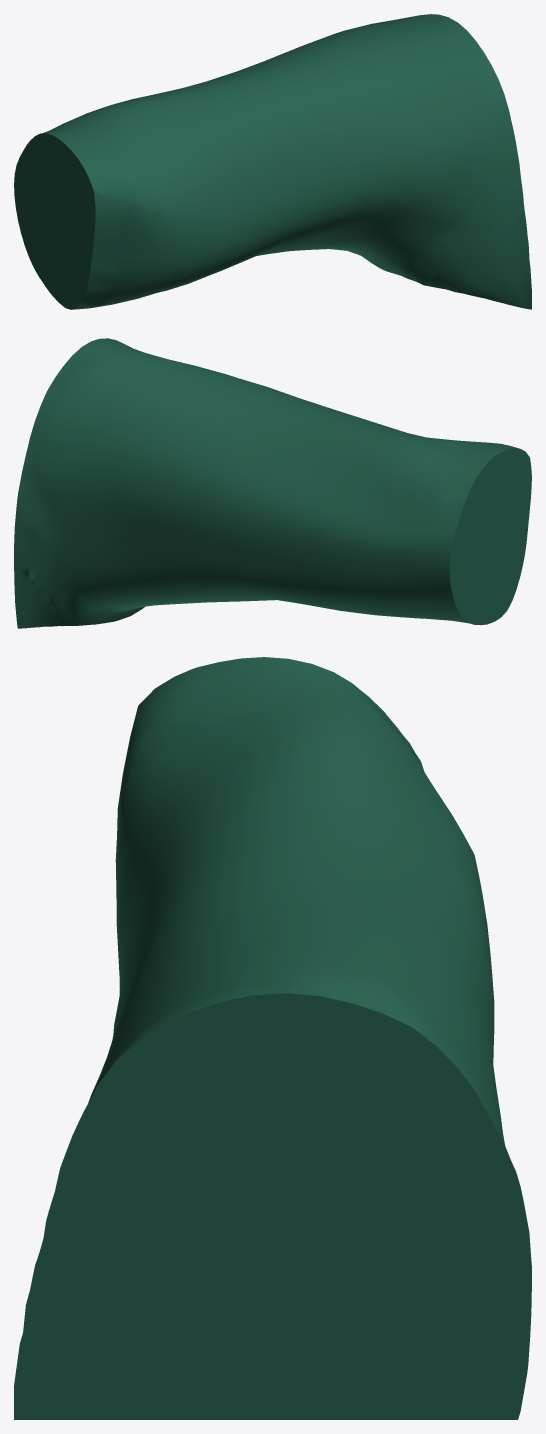
Rendered from upperarm_r.fbx.
3 renders of one model, top to bottom at view 1: azimuth 30°, elevation 25°; view 2: azimuth 150°, elevation 25°; view 3: azimuth 270°, elevation 25°, orthographic. The views are drawn at different scales.
Visible parts, largest first — view 1: upperarm_r.-1; view 2: upperarm_r.-1; view 3: upperarm_r.-1.
Boxes of the visible parts, <box> form: upperarm_r.-1: <box>14,14,531,309</box>; upperarm_r.-1: <box>14,338,531,628</box>; upperarm_r.-1: <box>14,657,531,1419</box>.
Bounding box in the file's own units: 0.2366 × 0.1433 × 0.131.
